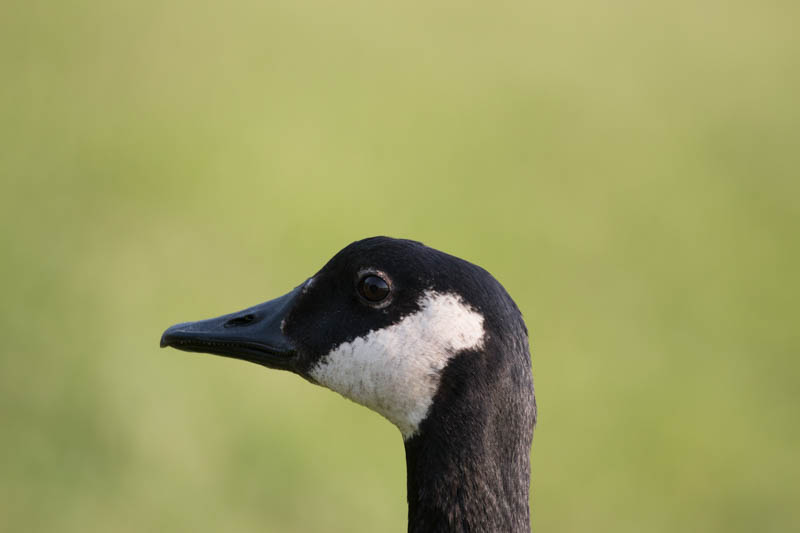goose-head: (160, 236, 536, 449)
